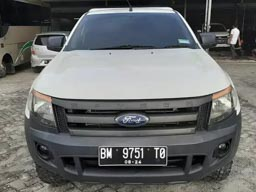plat: (99, 146, 166, 158)
